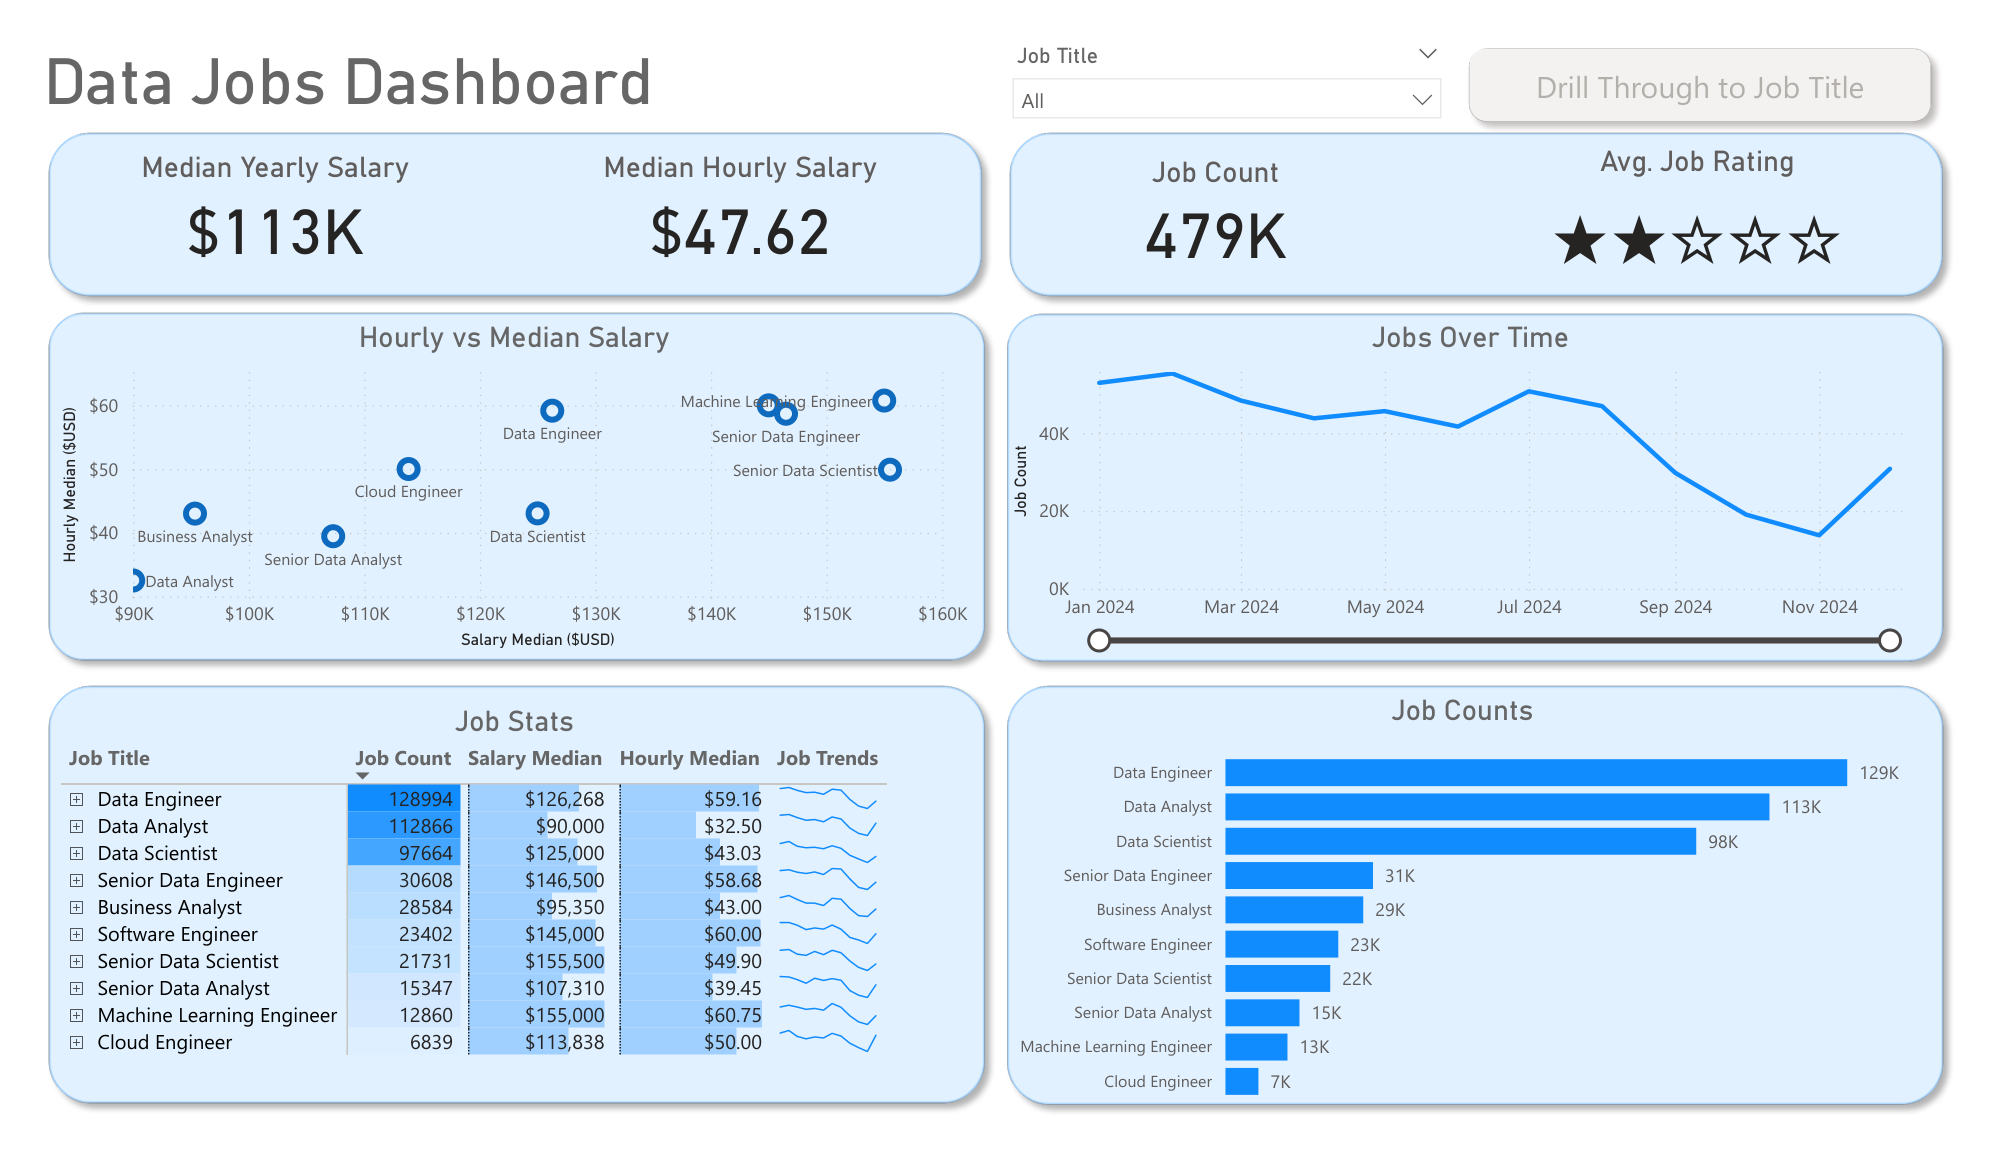

Layout of this report page (visuals, bound fields, positions):
{"tool":"powerbi","page":{"name":"Data Jobs Dashboard","canvas":[1280,720],"ordinal":0},"visuals":[{"type":"group","id":"g1","title":"Background","box":[0,56.3,1280,665],"z":0},{"type":"shape","box":[638.6,425.1,641.4,296.2],"z":0,"group":"g1"},{"type":"scatterChart","title":"Hourly vs Median Salary","fields":{"Y":["Median(job_postings_flat.salary_hour_avg)"],"X":["Median(job_postings_flat.salary_year_avg)"],"Series":["job_postings_flat.job_title_short"]},"box":[12.3,189.4,613.4,223.7],"z":1000},{"type":"shape","box":[0,425.1,641.4,295.2],"z":1000,"group":"g1"},{"type":"shape","box":[0,176.2,641.4,248.9],"z":2000,"group":"g1"},{"type":"pivotTable","title":"Job Stats","fields":{"Rows":["job_postings_flat.job_title_short","job_postings_flat.job_posted_date.Variation.Date Hierarchy.Quarter"],"Values":["CountNonNull(job_postings_flat.job_title_short)","Median(job_postings_flat.salary_year_avg)","Median(job_postings_flat.salary_hour_avg)","SparklineData(CountNonNull(job_postings_flat.job_title_short)_[job_postings_flat.job_posted_date.Variation.Date Hierarch"]},"box":[12.3,444.6,613.4,267.6],"z":2000},{"type":"cardVisual","fields":{"Data":["CountNonNull(job_postings_flat.job_title_short)"]},"box":[627.1,60.4,319.7,116.6],"z":3000},{"type":"shape","box":[638.6,177.1,641.4,248.9],"z":3000,"group":"g1"},{"type":"cardVisual","fields":{"Data":["Median(job_postings_flat.salary_year_avg)"]},"box":[0,56.3,319.7,118],"z":4000},{"type":"shape","box":[641.4,56.3,638.6,126.3],"z":4000,"group":"g1"},{"type":"shape","box":[0,56.3,638.6,126.3],"z":5000,"group":"g1"},{"type":"cardVisual","fields":{"Data":["Median(job_postings_flat.salary_hour_avg)"]},"box":[310.1,56.3,319.7,118],"z":5000},{"type":"actionButton","box":[946.6,0,325.5,66.1],"z":6000},{"type":"slicer","fields":{"Values":["job_postings_flat.job_title_short"]},"box":[641,0,305.6,79.3],"z":7000},{"type":"cardVisual","fields":{"Data":["job_postings_flat.Job Rating"]},"box":[948.2,60.4,319.7,116.6],"z":8000},{"type":"textbox","box":[0,0,495.7,77.1],"z":9000},{"type":"barChart","title":"Job Counts","fields":{"Category":["job_postings_flat.job_title_short"],"Y":["CountNonNull(job_postings_flat.job_title_short)"]},"box":[640.8,437.7,620.2,282.7],"z":10000},{"type":"lineChart","title":"Jobs Over Time","fields":{"Category":["job_postings_flat.job_posted_date.Variation.Date Hierarchy.Year","job_postings_flat.job_posted_date.Variation.Date Hierarchy.Quarter","job_postings_flat.job_posted_date.Variation.Date Hierarchy.Month","job_postings_flat.job_posted_date.Variation.Date Hierarchy.Day"],"Y":["CountNonNull(job_postings_flat.job_title_short)"]},"box":[646.3,189.4,620.2,225],"z":11000}]}

Visuals, with their boxes in screenshot pixels (x1, y1, x2, y2), scaled from the page's 1280x720 canvas onto the 1992x1152 screenshot:
"Background" group: pyautogui.locateOnScreen(0, 90, 1991, 1151)
shape: pyautogui.locateOnScreen(994, 680, 1991, 1151)
"Hourly vs Median Salary" scatterChart: pyautogui.locateOnScreen(19, 303, 974, 661)
shape: pyautogui.locateOnScreen(0, 680, 998, 1151)
shape: pyautogui.locateOnScreen(0, 282, 998, 680)
"Job Stats" pivotTable: pyautogui.locateOnScreen(19, 711, 974, 1140)
cardVisual - CountNonNull(job_postings_flat.job_title_short): pyautogui.locateOnScreen(976, 97, 1473, 283)
shape: pyautogui.locateOnScreen(994, 283, 1991, 682)
cardVisual - Median(job_postings_flat.salary_year_avg): pyautogui.locateOnScreen(0, 90, 498, 279)
shape: pyautogui.locateOnScreen(998, 90, 1991, 292)
shape: pyautogui.locateOnScreen(0, 90, 994, 292)
cardVisual - Median(job_postings_flat.salary_hour_avg): pyautogui.locateOnScreen(483, 90, 980, 279)
actionButton: pyautogui.locateOnScreen(1473, 0, 1980, 106)
slicer - job_postings_flat.job_title_short: pyautogui.locateOnScreen(998, 0, 1473, 127)
cardVisual - job_postings_flat.Job Rating: pyautogui.locateOnScreen(1476, 97, 1973, 283)
textbox: pyautogui.locateOnScreen(0, 0, 771, 123)
"Job Counts" barChart: pyautogui.locateOnScreen(997, 700, 1962, 1151)
"Jobs Over Time" lineChart: pyautogui.locateOnScreen(1006, 303, 1971, 663)
